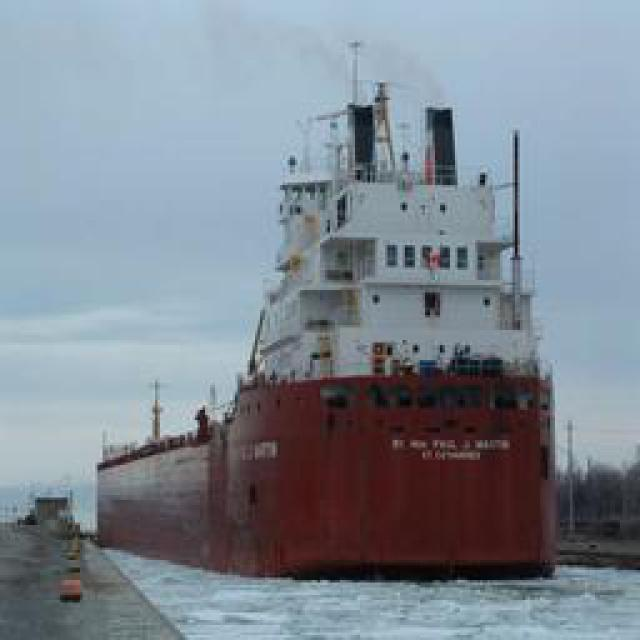Ship: (91, 42, 564, 585)
